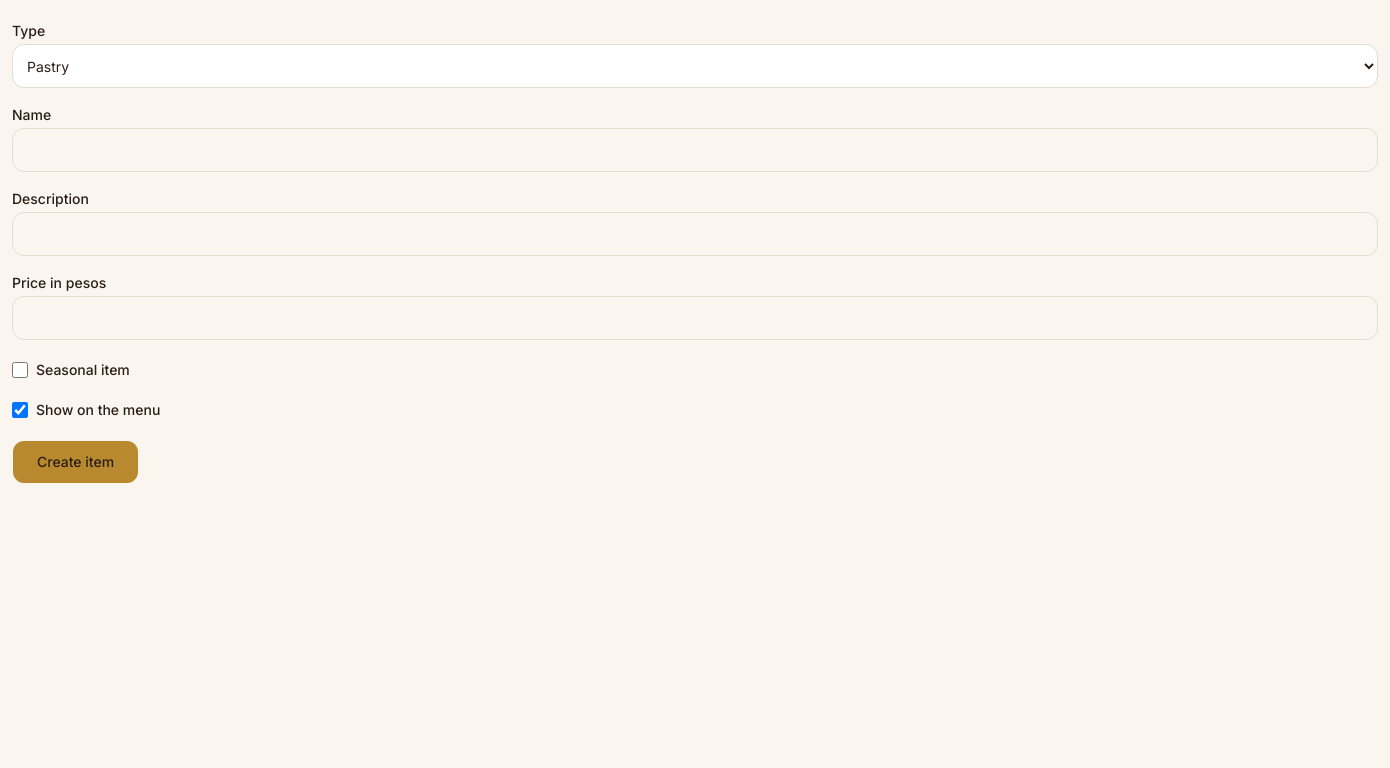
Test: ProductForm › shows dates only for a seasonal item
Expected: the field labelled "First day available" is not shown
Click the checkbox labelled "Seasonal item": {"x": 20, "y": 370} x1=12 y1=362 x2=28 y2=378
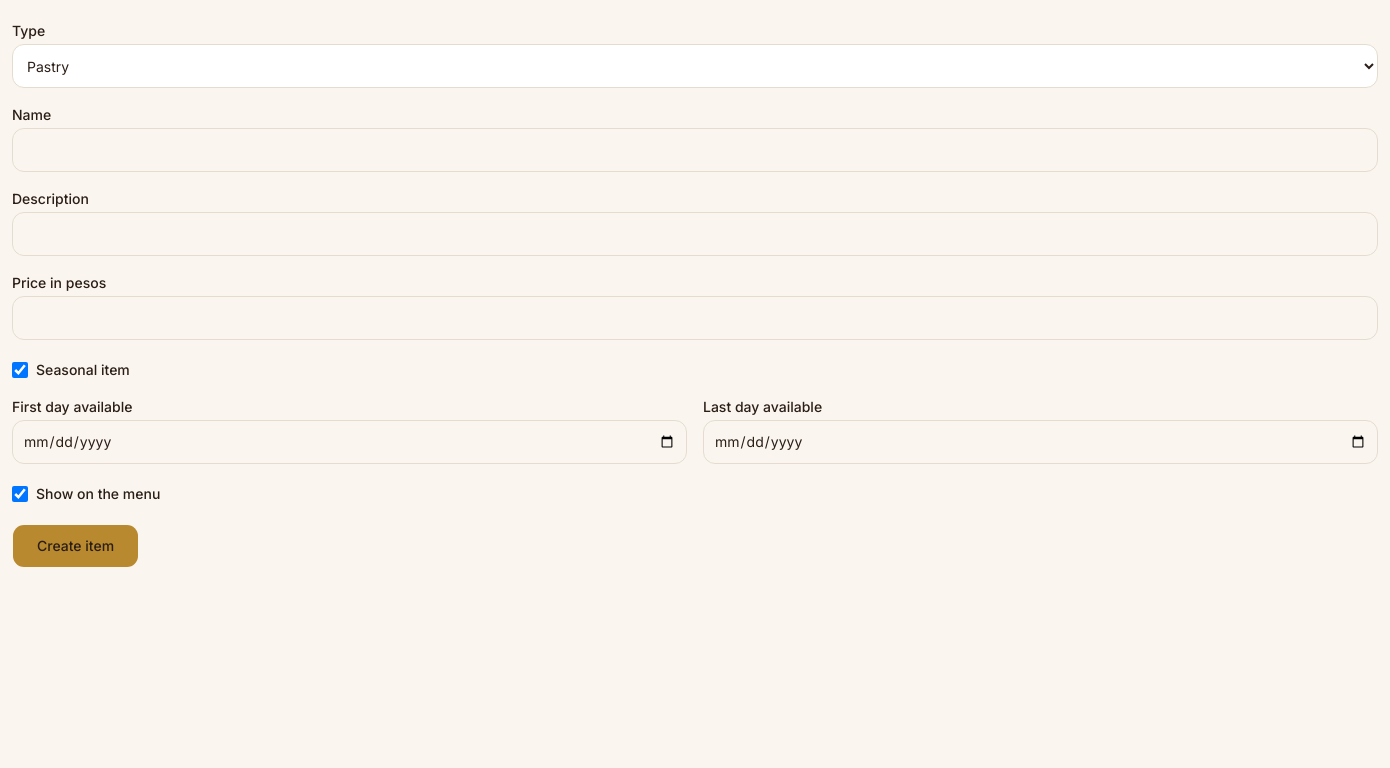
Expected: the date field labelled "First day available" is shown, x1=12 y1=420 x2=687 y2=464
